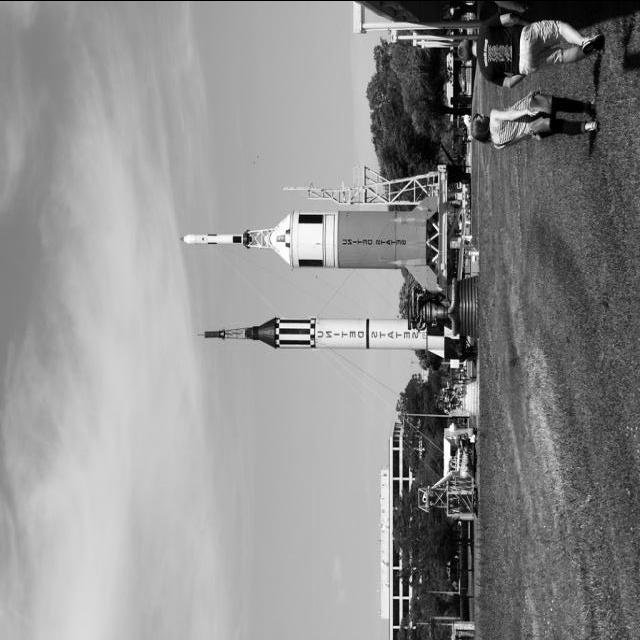missile: (194, 310, 462, 365), (178, 228, 242, 248)
